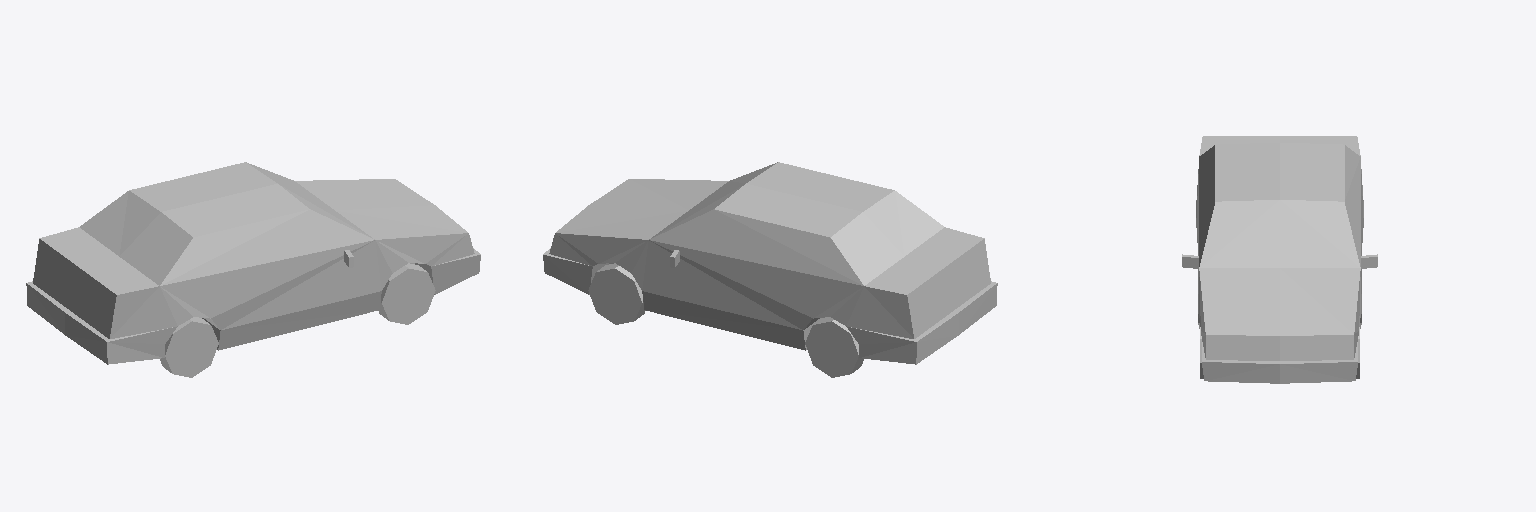
The model's file is Car2_o1.obj.
3 views of the same model, side by side, from view 1: azimuth 30°, elevation 25°; view 2: azimuth 150°, elevation 25°; view 3: azimuth 270°, elevation 25° (orthographic).
Visible parts, largest first — view 1: Car2; view 2: Car2; view 3: Car2.
Part boxes in pixels (x1,y1,x2,y2): Car2: (26,162,480,377); Car2: (543,162,997,377); Car2: (1182,136,1377,383).
Bounding box in the file's own units: 3.56 × 1.2 × 1.58.